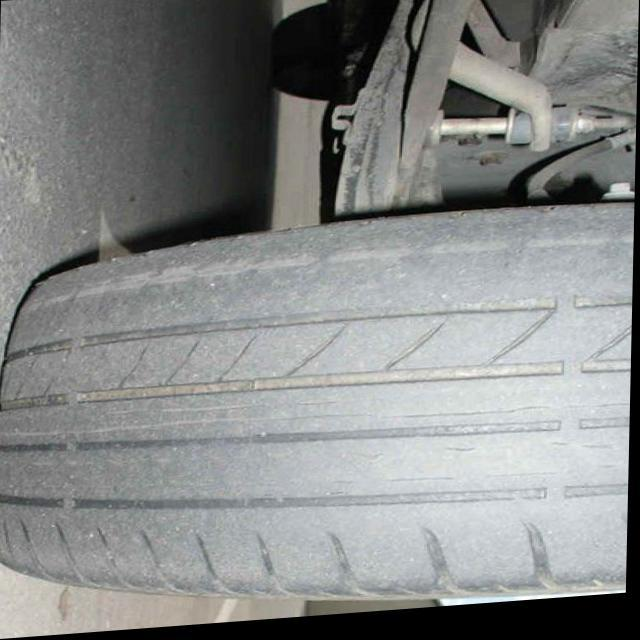Flat spots: (0, 201, 634, 601)
